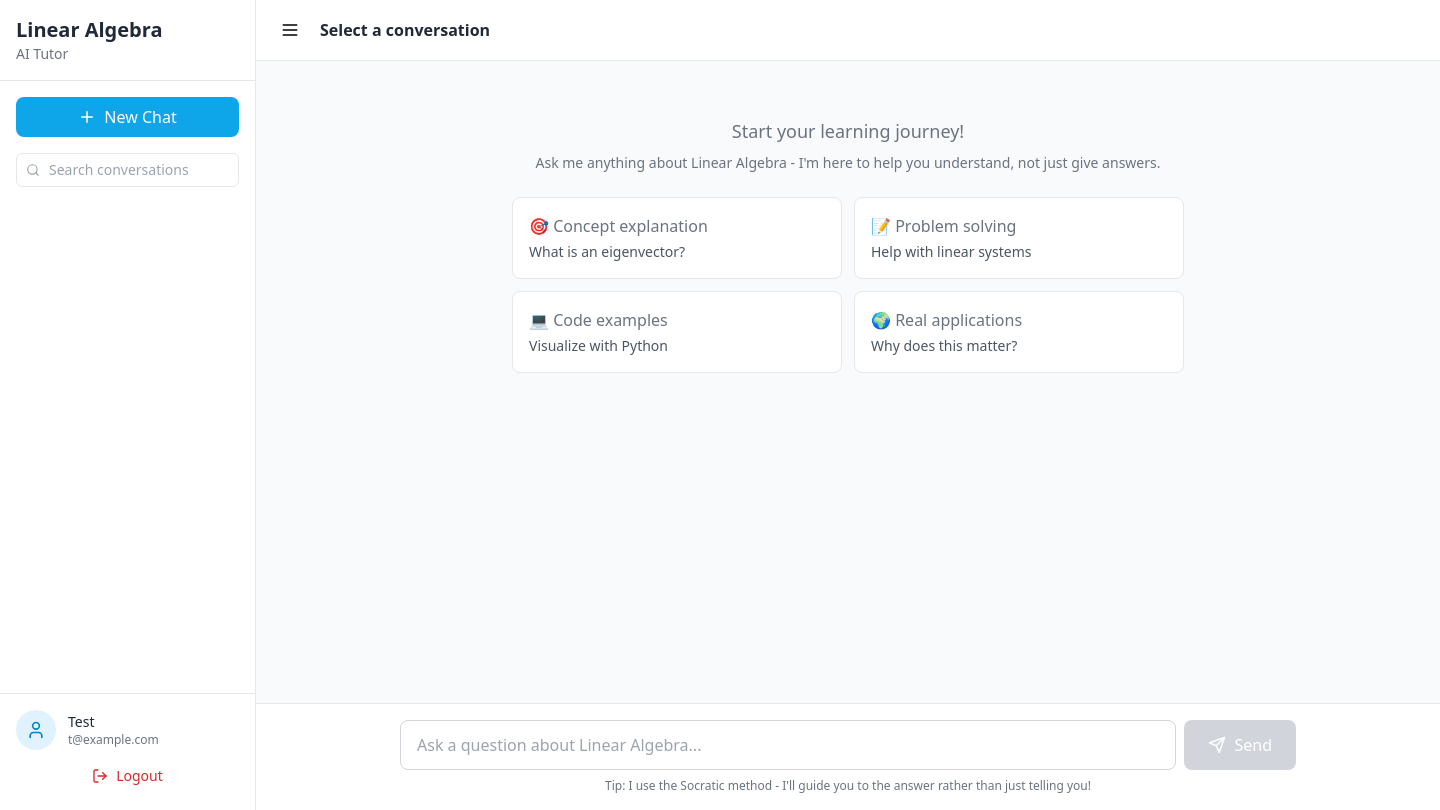
it: Dashboard › shows an empty-state message when the filter matches nothing
This screenshot has width=1440, height=810.
Step 1. Type "nonsense" into the search field with placeholder "Search conversations" → (128, 170), box [16, 153, 239, 187]
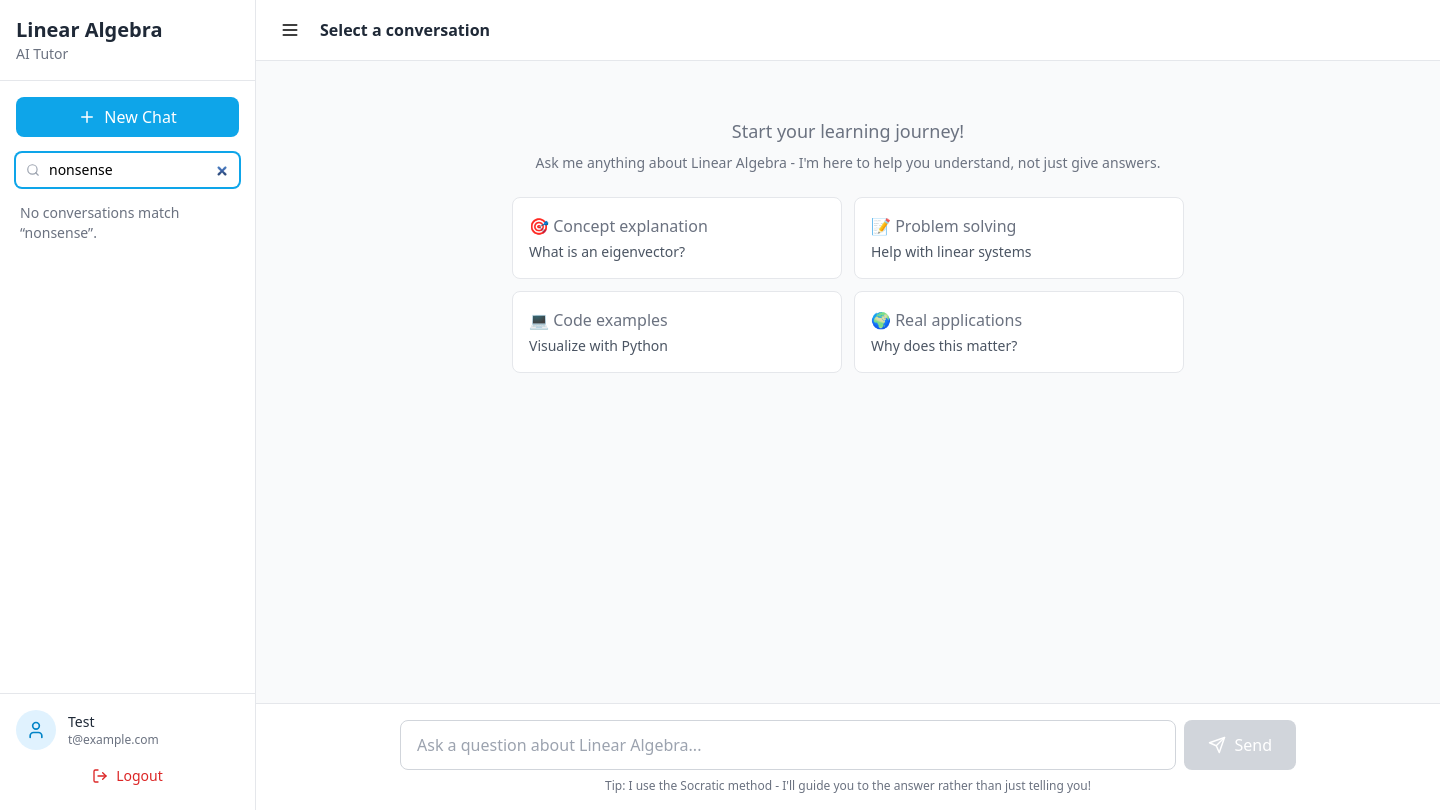
Now the text "No conversations match “nonsense”." is shown, box [20, 203, 180, 242]
